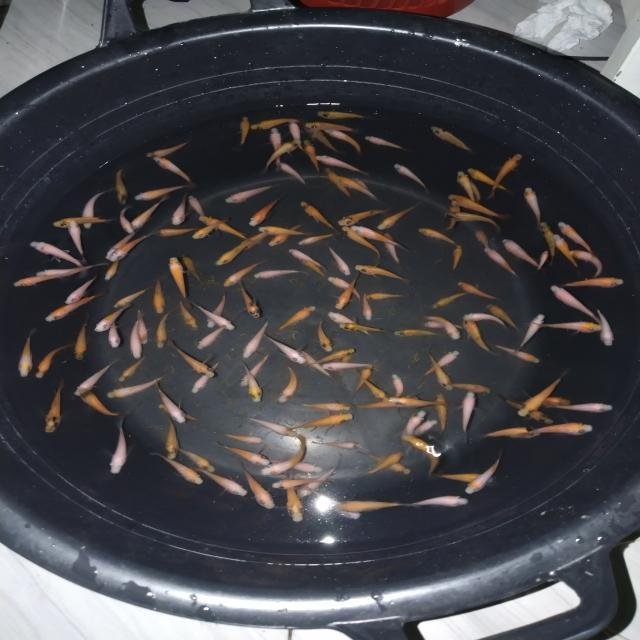nila: (518, 369, 568, 417), (548, 282, 602, 322), (42, 291, 108, 323), (258, 436, 308, 478), (294, 457, 343, 498), (27, 240, 85, 274), (447, 192, 508, 222), (124, 196, 170, 235), (488, 150, 525, 198), (462, 454, 504, 496), (400, 436, 442, 478), (312, 489, 362, 524), (554, 221, 604, 256), (340, 224, 386, 262), (107, 230, 158, 264), (32, 341, 74, 382), (260, 332, 310, 366), (69, 362, 115, 398), (501, 395, 551, 427), (429, 122, 476, 156), (351, 225, 410, 252), (170, 342, 213, 379), (105, 374, 168, 399), (214, 442, 274, 468), (197, 468, 249, 498), (328, 496, 413, 514), (520, 422, 596, 442), (238, 318, 274, 360), (42, 382, 70, 436), (196, 215, 252, 242), (246, 192, 288, 228), (154, 452, 200, 484), (156, 380, 187, 427), (14, 330, 43, 380), (234, 351, 273, 388), (392, 161, 433, 196), (242, 468, 276, 510), (150, 153, 193, 186), (75, 388, 125, 416), (326, 310, 374, 339), (445, 211, 502, 235), (194, 301, 238, 332), (92, 303, 136, 334), (362, 451, 414, 477), (377, 200, 422, 230), (212, 240, 260, 268), (109, 418, 132, 476), (290, 412, 360, 431), (482, 246, 521, 280), (194, 319, 234, 352), (262, 454, 327, 474), (500, 238, 543, 268), (81, 188, 111, 231), (61, 272, 100, 305), (33, 262, 104, 280), (427, 286, 480, 310), (336, 204, 389, 228), (223, 182, 276, 206), (420, 348, 461, 379), (355, 372, 390, 408), (426, 349, 454, 394), (304, 347, 364, 368), (276, 302, 318, 332), (324, 128, 369, 156), (338, 174, 384, 201), (262, 141, 302, 172), (132, 182, 193, 202), (298, 200, 337, 231), (352, 264, 412, 284), (177, 444, 217, 474), (336, 270, 366, 310), (8, 271, 67, 291), (516, 312, 547, 350), (462, 316, 493, 354), (222, 261, 264, 289), (398, 418, 439, 446), (246, 416, 298, 438), (553, 232, 583, 270), (102, 230, 140, 260), (312, 154, 369, 174), (362, 451, 404, 478), (189, 363, 224, 395), (468, 166, 511, 192), (570, 248, 606, 279), (458, 280, 504, 304), (70, 317, 94, 363), (166, 255, 188, 305), (189, 217, 231, 243), (560, 275, 624, 292), (48, 212, 112, 229), (240, 223, 276, 253), (145, 138, 194, 160), (382, 394, 449, 410), (520, 185, 546, 226), (112, 284, 153, 310), (496, 343, 542, 366), (284, 478, 306, 526), (299, 349, 332, 381), (278, 364, 302, 408), (118, 352, 153, 382), (326, 274, 366, 300), (288, 248, 328, 274), (166, 190, 192, 230), (360, 133, 412, 153), (305, 128, 345, 154), (485, 302, 520, 331), (539, 222, 562, 266), (426, 312, 462, 340), (356, 396, 419, 412), (238, 283, 266, 319), (311, 105, 374, 121), (68, 220, 90, 264), (202, 294, 227, 332), (460, 389, 478, 441), (549, 401, 621, 414), (267, 222, 303, 248), (270, 476, 336, 490), (292, 230, 338, 250), (334, 344, 358, 382), (154, 403, 202, 422), (267, 125, 286, 173), (300, 136, 324, 174), (433, 380, 493, 395), (171, 301, 201, 331), (180, 249, 203, 288), (278, 160, 310, 188), (401, 408, 428, 441), (328, 244, 354, 278), (153, 310, 174, 352), (538, 322, 605, 335), (240, 366, 263, 403), (484, 424, 540, 439), (382, 233, 406, 268), (431, 392, 451, 434), (324, 166, 350, 198), (129, 308, 152, 344), (416, 226, 457, 246), (257, 114, 308, 130), (286, 118, 308, 154), (410, 494, 470, 507), (439, 473, 499, 486), (296, 399, 356, 412), (249, 268, 309, 281), (296, 256, 331, 278), (300, 120, 355, 134), (311, 438, 363, 452), (598, 308, 616, 348), (218, 430, 263, 446), (256, 226, 316, 238), (114, 166, 132, 206), (236, 114, 256, 150), (151, 272, 168, 314), (354, 362, 376, 394), (163, 418, 179, 462), (129, 316, 145, 360), (185, 194, 210, 222), (421, 320, 470, 334), (116, 203, 138, 234), (456, 169, 476, 201), (524, 394, 573, 407), (338, 322, 391, 334), (461, 312, 513, 324), (105, 318, 123, 349), (154, 226, 200, 238), (101, 258, 122, 284), (443, 198, 459, 232), (317, 320, 334, 352), (321, 362, 374, 372), (392, 328, 438, 339), (447, 244, 464, 273), (466, 178, 484, 204), (361, 290, 375, 322), (354, 175, 374, 196), (534, 248, 550, 274), (474, 229, 492, 251), (390, 372, 404, 400), (366, 293, 406, 301)
